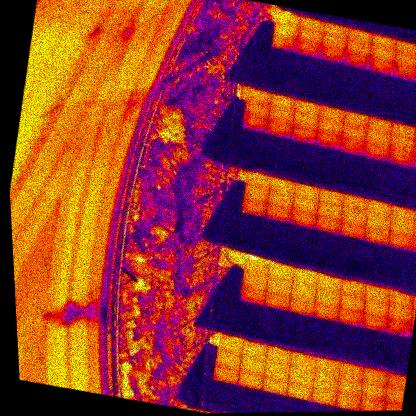Hotspot: (311, 371, 340, 392), (341, 110, 369, 130), (240, 198, 268, 217), (337, 362, 365, 381), (313, 356, 341, 375), (388, 136, 416, 153), (357, 397, 385, 411)
Normal: (263, 290, 292, 311), (238, 284, 267, 305), (284, 380, 313, 401), (260, 374, 289, 395), (235, 370, 264, 391), (211, 364, 240, 385), (287, 296, 316, 316), (338, 293, 367, 313), (313, 287, 342, 307), (264, 203, 293, 223), (338, 220, 366, 240), (289, 208, 317, 228), (291, 195, 319, 215), (317, 105, 345, 125), (333, 391, 361, 411), (310, 386, 338, 406), (243, 258, 270, 278), (265, 345, 292, 365), (385, 319, 413, 338), (360, 313, 388, 332), (312, 302, 340, 321), (362, 299, 390, 318), (289, 283, 317, 302), (265, 277, 293, 296), (387, 290, 415, 309), (339, 279, 367, 298), (315, 273, 343, 292), (314, 216, 342, 235), (363, 213, 391, 232), (267, 190, 295, 209), (341, 194, 369, 213), (268, 177, 296, 196), (387, 147, 415, 166), (363, 141, 391, 160), (265, 119, 293, 138), (293, 99, 321, 118), (269, 94, 297, 113), (367, 56, 395, 75), (294, 39, 322, 58), (297, 15, 325, 34), (359, 382, 387, 401), (335, 377, 363, 396), (287, 365, 315, 384), (239, 356, 267, 375), (289, 351, 317, 370), (240, 341, 268, 360), (314, 132, 343, 150), (363, 226, 390, 245), (366, 199, 393, 218), (293, 182, 320, 201), (245, 171, 272, 190), (389, 122, 416, 141), (263, 360, 290, 379), (360, 368, 387, 387), (240, 272, 268, 290), (338, 137, 366, 155), (364, 129, 392, 147), (340, 124, 368, 142), (292, 113, 320, 131), (267, 107, 295, 125), (365, 117, 393, 135), (318, 46, 346, 64), (319, 33, 347, 51), (321, 22, 349, 40), (242, 113, 268, 132), (337, 308, 364, 326), (387, 305, 414, 323), (267, 263, 294, 281), (386, 232, 413, 250), (388, 218, 415, 236), (340, 208, 367, 226), (316, 202, 343, 220), (242, 185, 269, 203), (388, 205, 415, 223), (290, 125, 317, 143), (246, 87, 273, 105), (215, 350, 242, 368), (217, 336, 244, 354), (291, 269, 319, 286), (316, 119, 344, 136), (368, 45, 396, 62), (344, 39, 372, 56), (272, 23, 300, 40), (369, 33, 397, 50), (346, 27, 374, 44), (364, 285, 390, 303), (244, 101, 271, 118), (343, 50, 370, 67), (270, 35, 297, 52), (318, 190, 344, 207), (392, 63, 416, 81), (392, 50, 416, 68), (274, 11, 300, 27), (296, 29, 322, 44), (383, 387, 404, 405), (384, 374, 406, 391), (392, 40, 416, 55), (382, 401, 402, 411), (411, 153, 416, 171), (413, 127, 416, 146), (413, 141, 416, 157)
